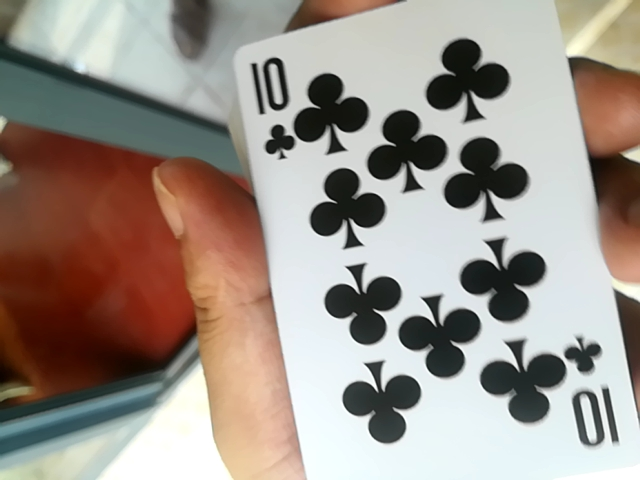mh 10: (224, 5, 628, 480)
